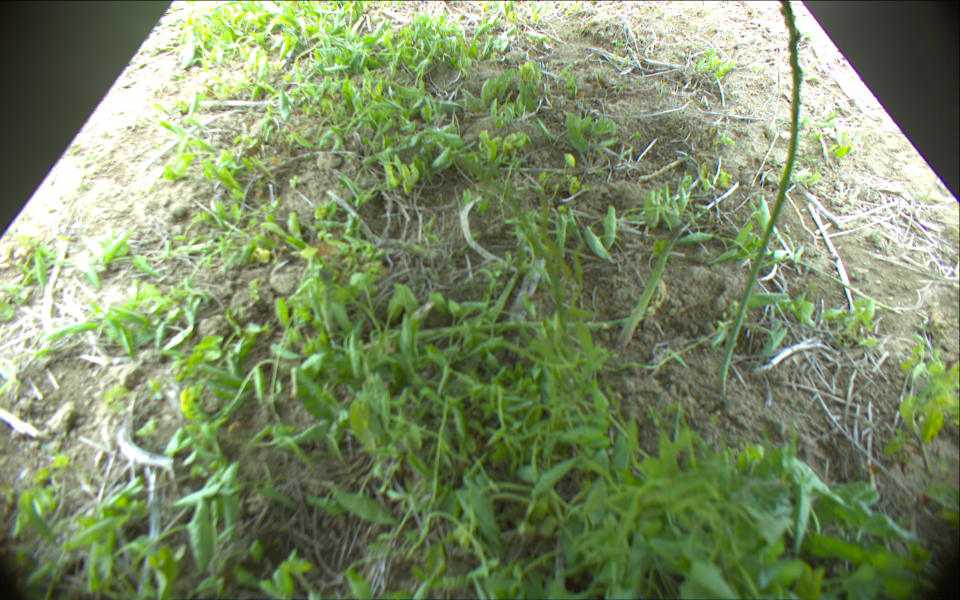aspa: (718, 1, 802, 395), (617, 218, 693, 345), (389, 316, 639, 347)
